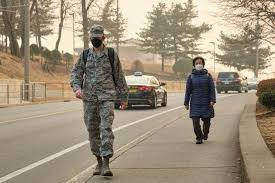mask: (89, 30, 104, 48), (191, 57, 205, 72)
